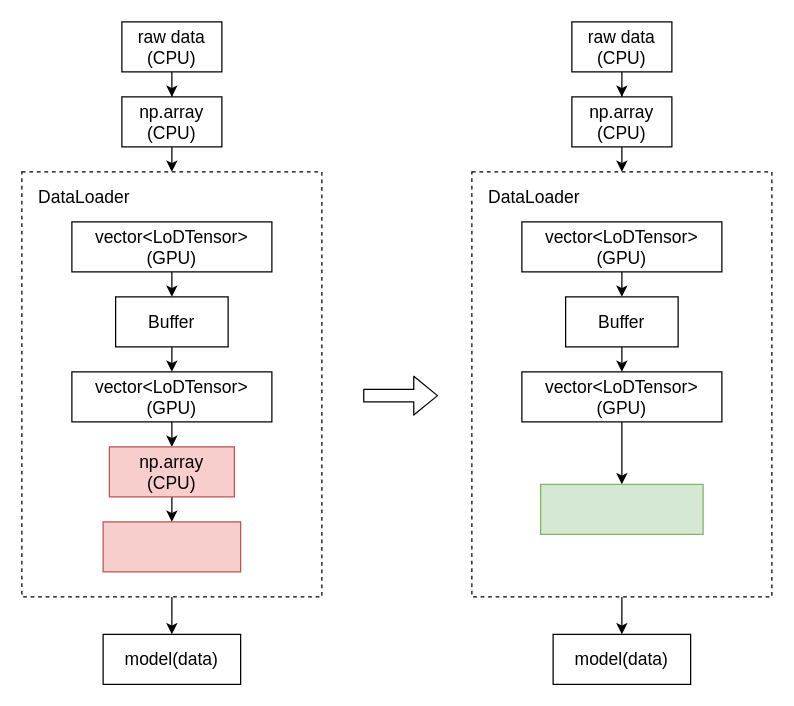
Some shapes in this 794 by 706 pixel diagram are drawn without their labels. The shapes that lost their labels are listed below. From the top down, each one's centre as x and y in pixels, then its label:
At point 621,508: "vector<VarBase> (GPU)".
At point 171,546: "to_variable() (GPU)".
